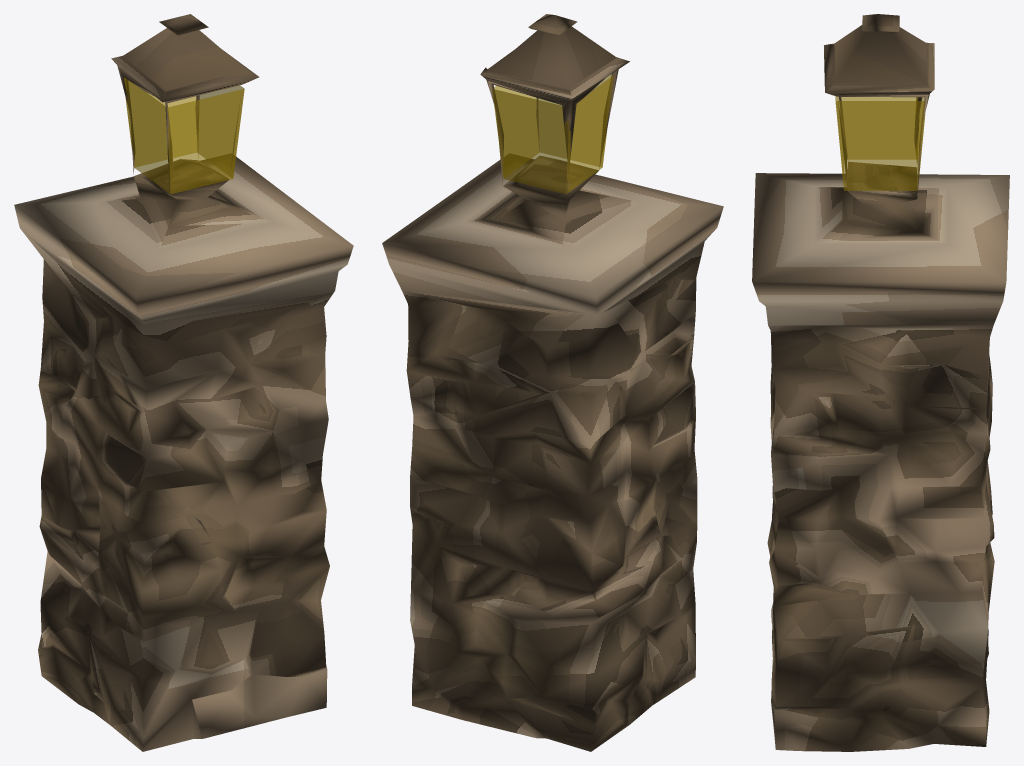
File: stone_pillar.glb
3 views of the same model, side by side, from view 1: azimuth 30°, elevation 25°; view 2: azimuth 150°, elevation 25°; view 3: azimuth 270°, elevation 25° (orthographic). The views are drawn at different scales.
Parts seen in each view (by area): view 1: LO, glass; view 2: LO, glass; view 3: LO, glass.
Boxes of the visible parts, bbox=[...] form: LO: bbox=[14, 14, 353, 751]; glass: bbox=[124, 77, 244, 194]; LO: bbox=[382, 14, 723, 751]; glass: bbox=[492, 74, 613, 193]; LO: bbox=[752, 14, 1009, 751]; glass: bbox=[835, 96, 925, 190].
Bounding box in the file's own units: 0.7253 × 2.15 × 0.725.
Materials: 2 (1 with a texture image).
